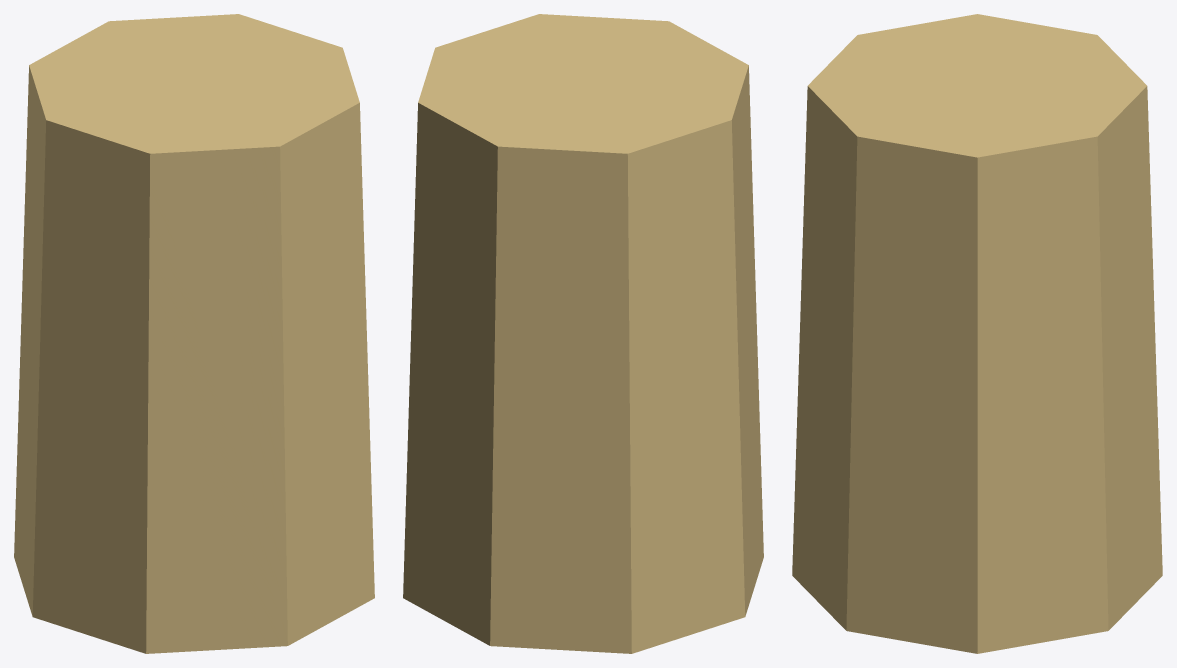
Rendered from prop-brush-ferrule-blank.fbx.
3 renders of one model, left to right at view 1: azimuth 30°, elevation 25°; view 2: azimuth 150°, elevation 25°; view 3: azimuth 270°, elevation 25°, orthographic.
Parts seen in each view (by area): view 1: prop-brush-ferrule-blank; view 2: prop-brush-ferrule-blank; view 3: prop-brush-ferrule-blank.
Part boxes in pixels (x1,y1,x2,y2): prop-brush-ferrule-blank: (14, 14, 374, 653); prop-brush-ferrule-blank: (403, 14, 763, 653); prop-brush-ferrule-blank: (792, 14, 1162, 653).
Bounding box in the file's own units: 2.4 × 3.5 × 2.4.
